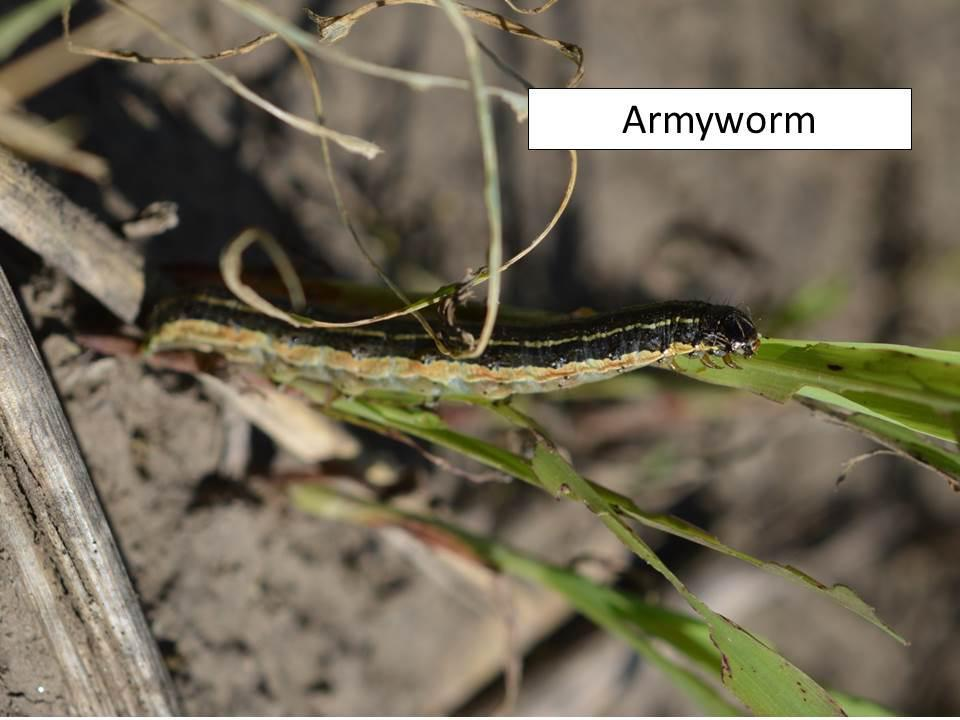caterpillars: (103, 223, 796, 461)
